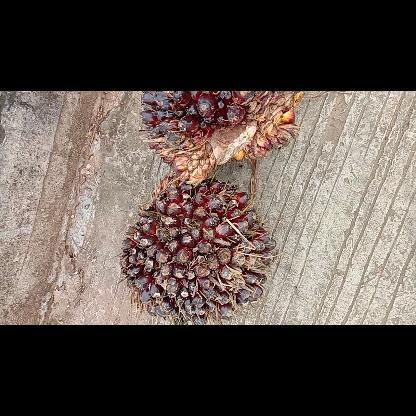TBS mentah: (117, 174, 281, 324), (136, 91, 310, 189)
